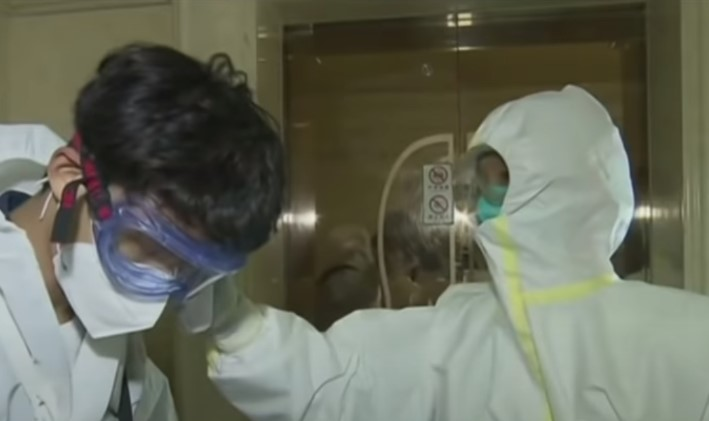face_with_mask: (49, 53, 278, 343), (472, 88, 630, 282)
